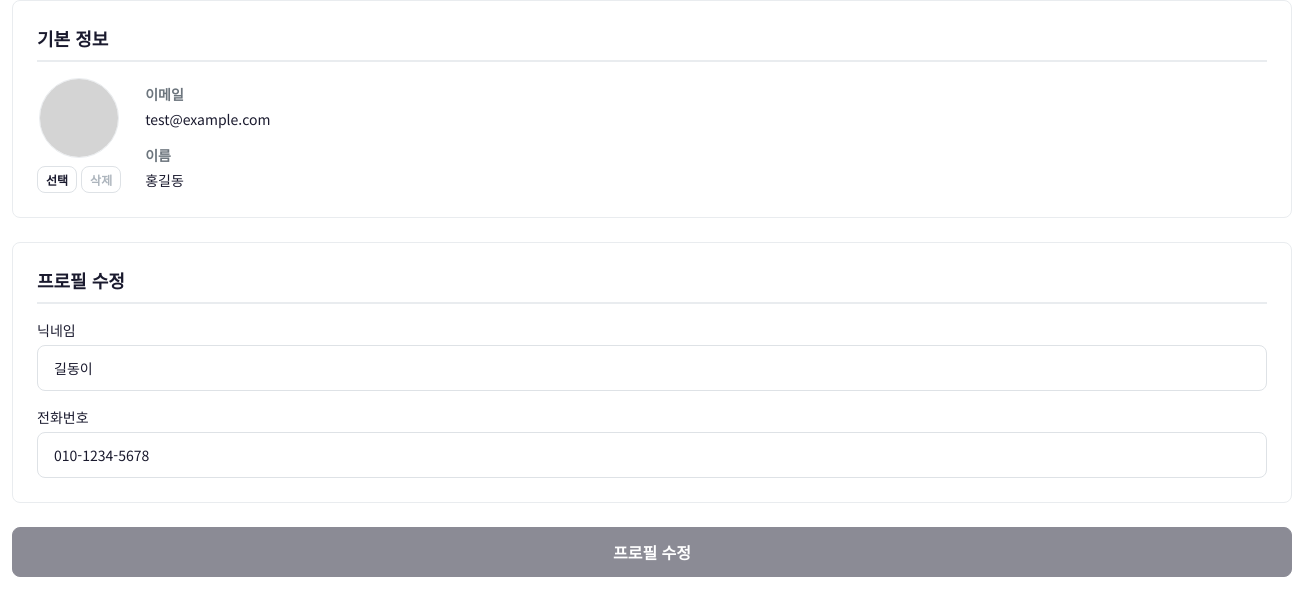
Test: ProfileForm › 유효하지 않은 전화번호를 입력하면 에러를 표시한다
Replace the text in the field labelled "전화번호" with "abc" at (652, 455), box [37,432,1267,478]
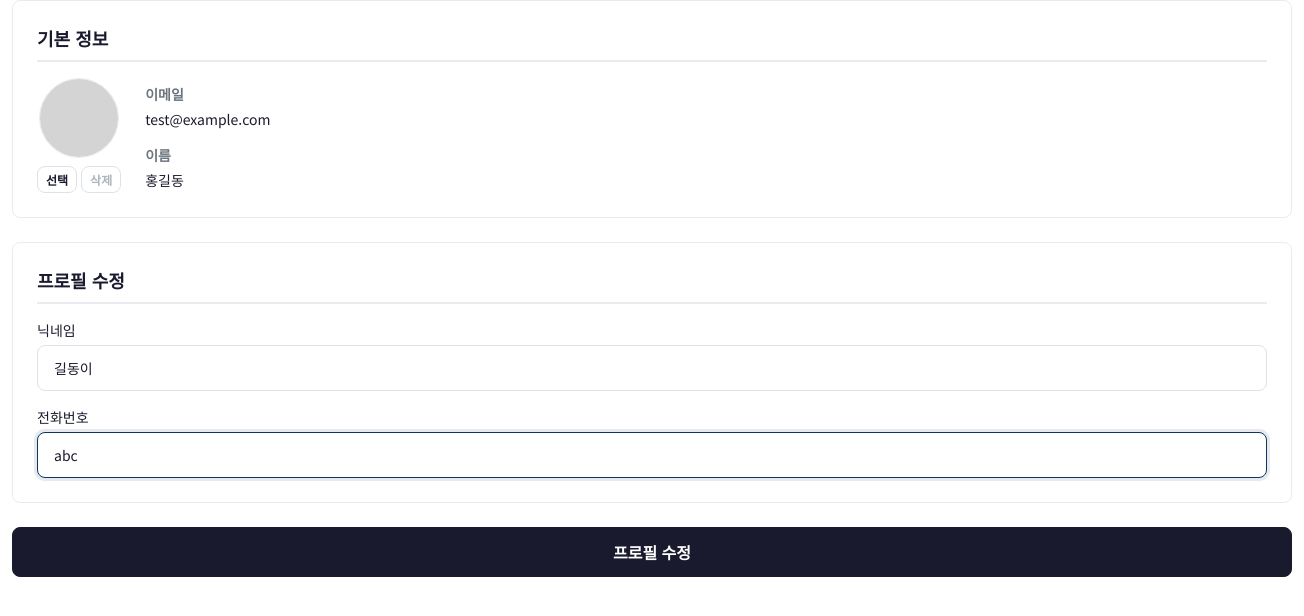
Click the button "프로필 수정" at (652, 552), box [12,527,1292,577]
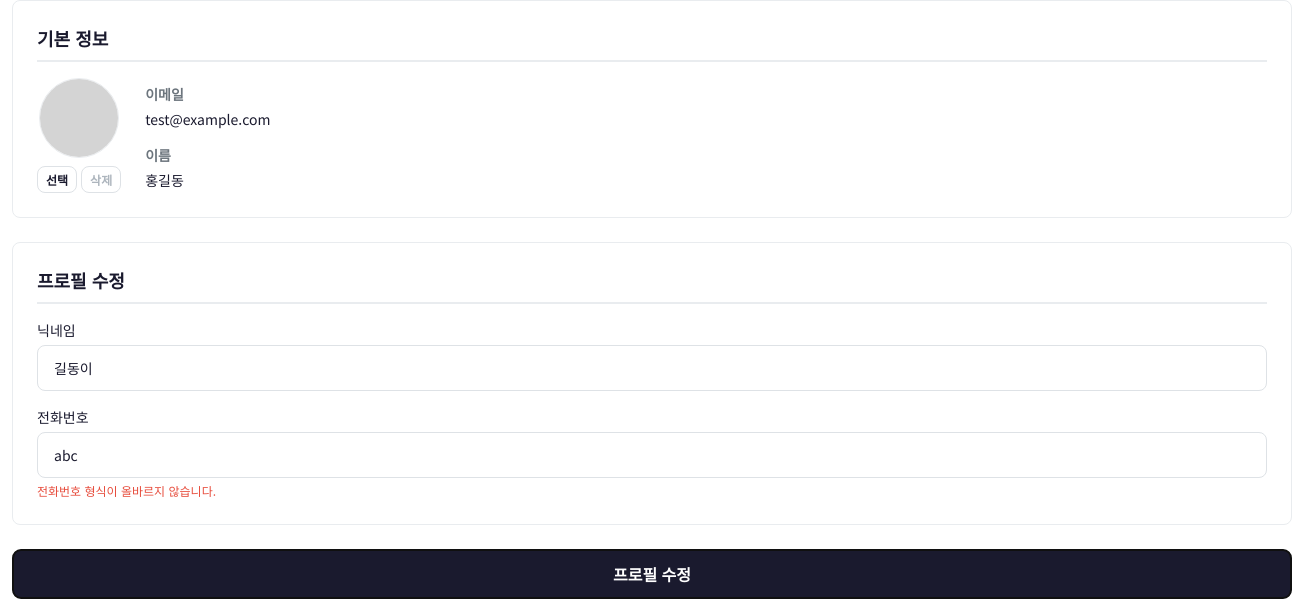
Expected: the text "전화번호 형식이 올바르지 않습니다." is shown, [37,482,216,499]
